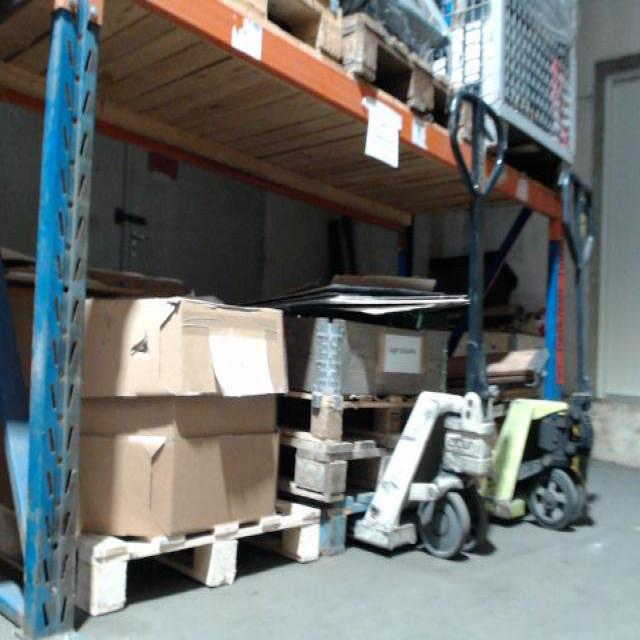pallet: (74, 501, 321, 617), (341, 10, 473, 143), (276, 379, 422, 445), (233, 0, 345, 62), (280, 436, 385, 502)
pallet_truck: (345, 78, 518, 566), (489, 160, 614, 539)
stillage: (409, 3, 588, 177)
